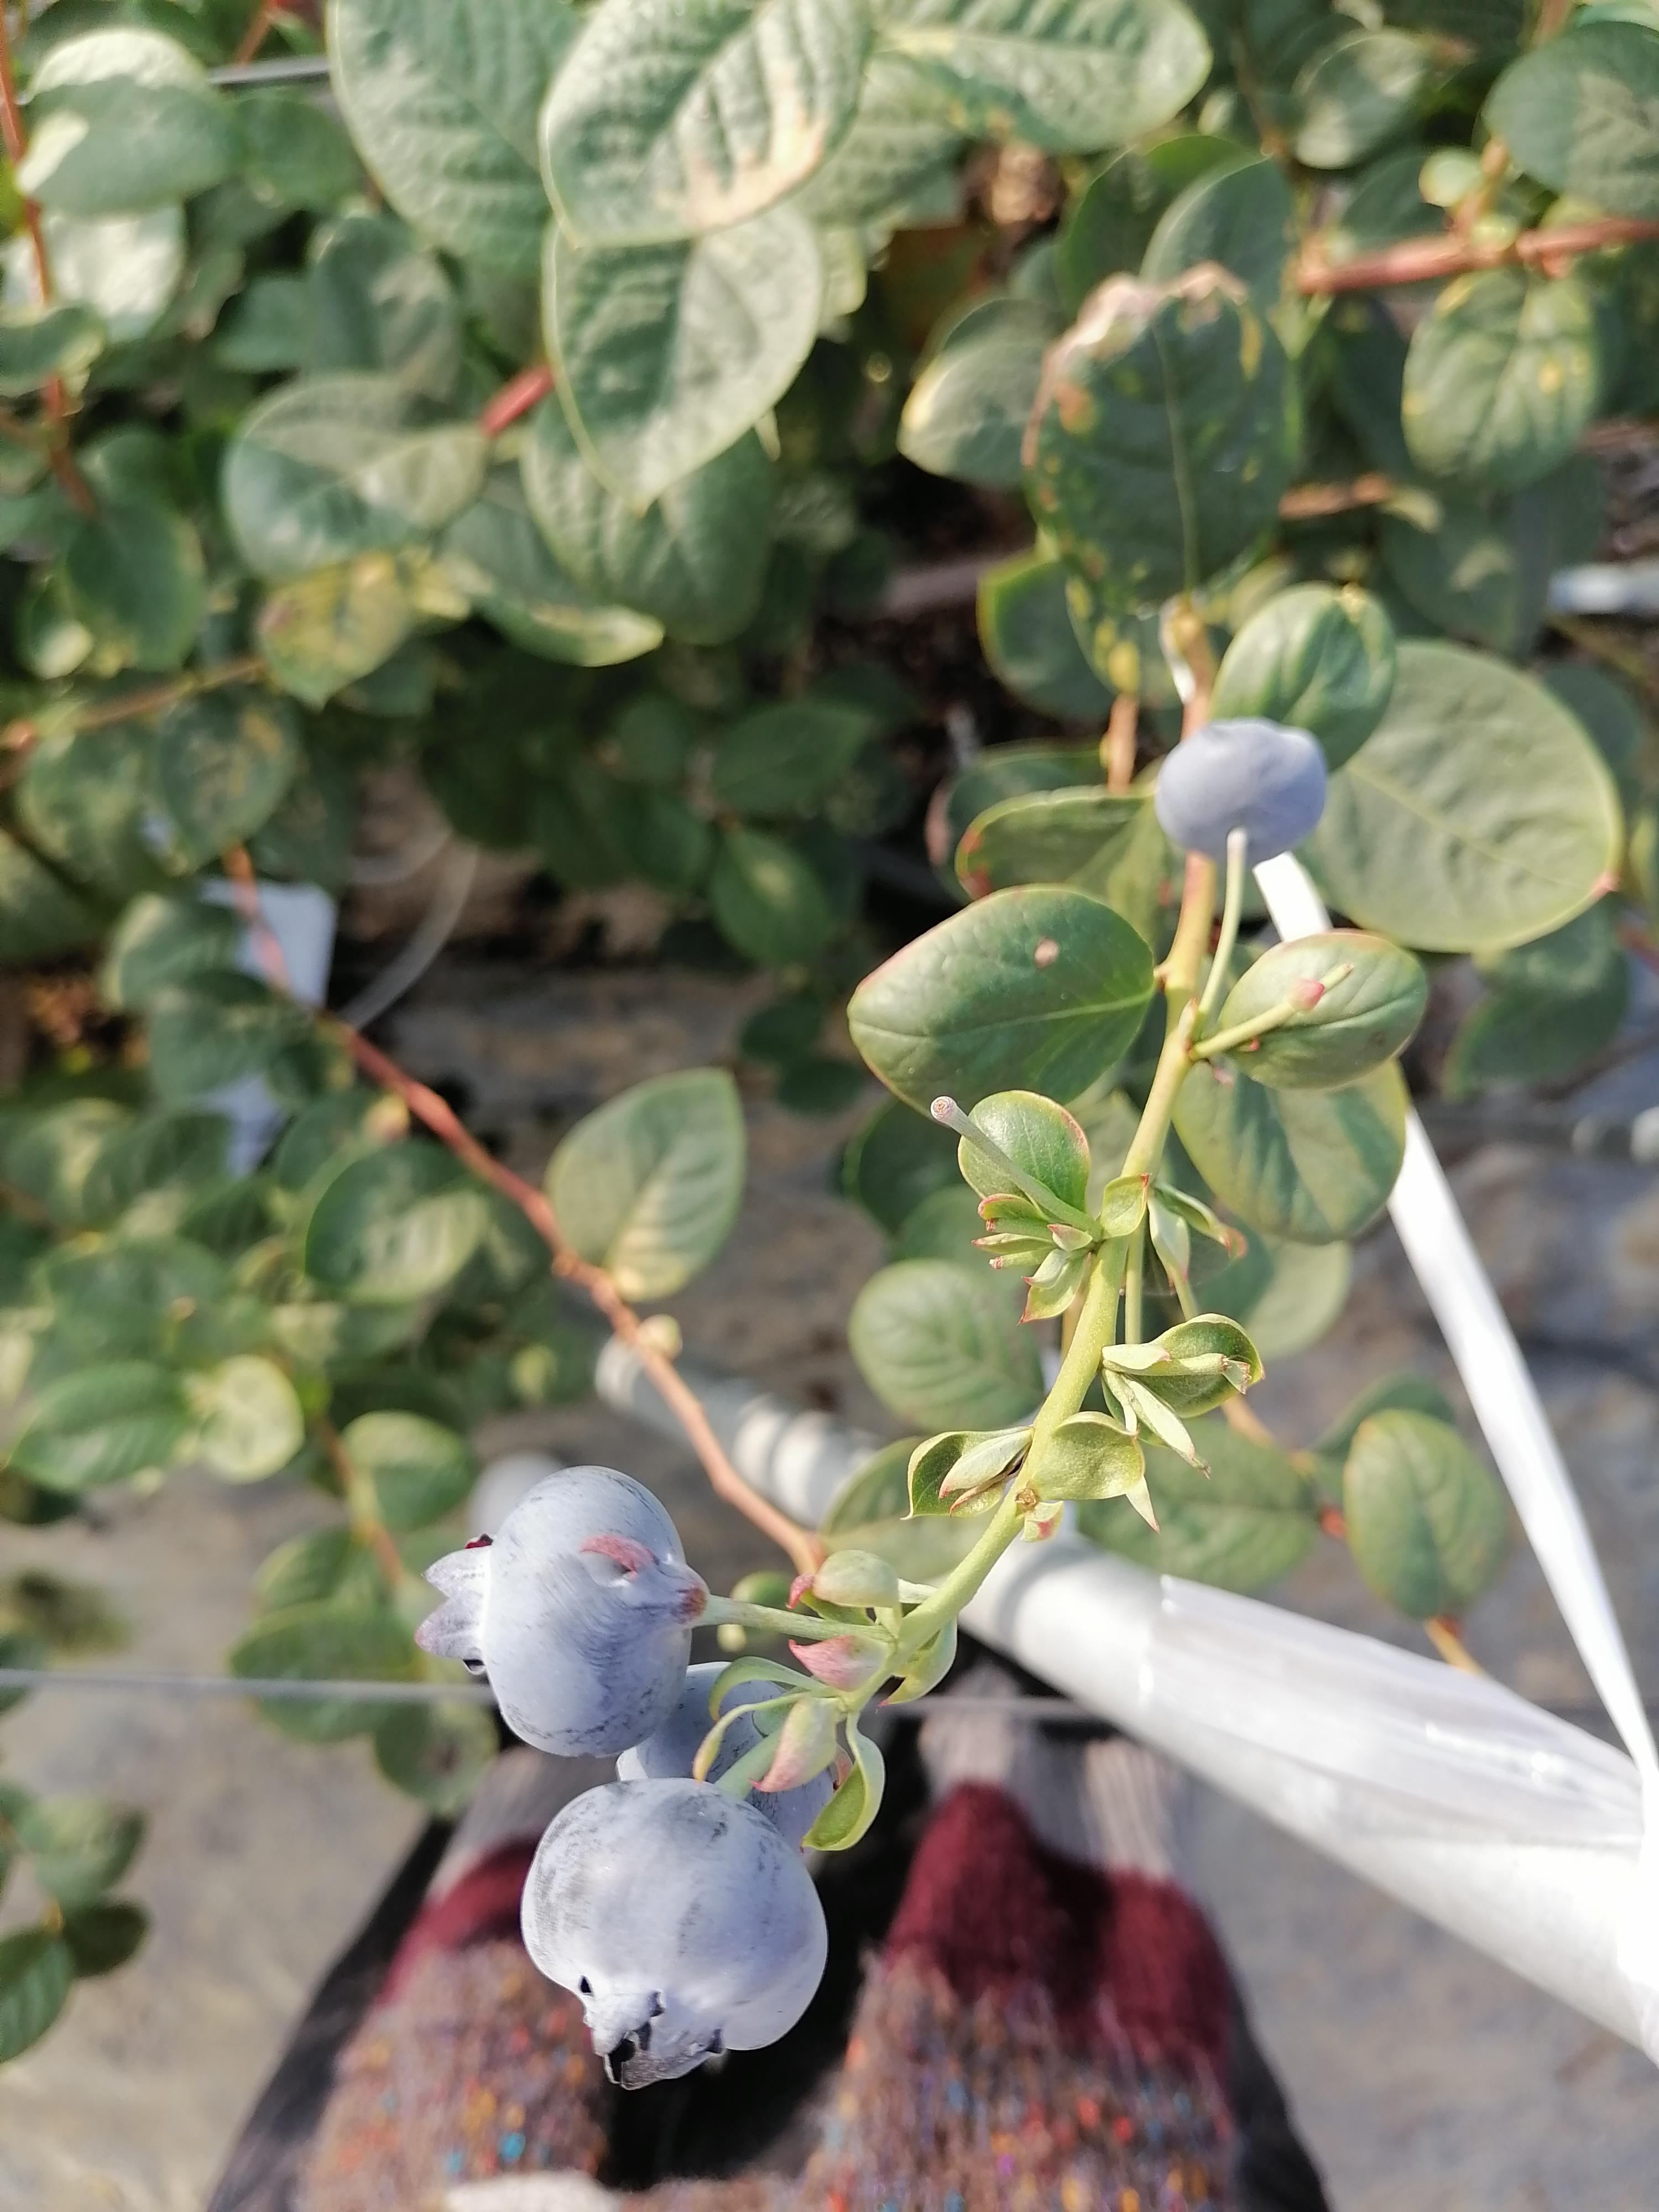ripe-blueberries: (519, 1775, 828, 2090), (415, 1463, 695, 1759), (617, 1660, 845, 1869), (1155, 716, 1330, 864)
